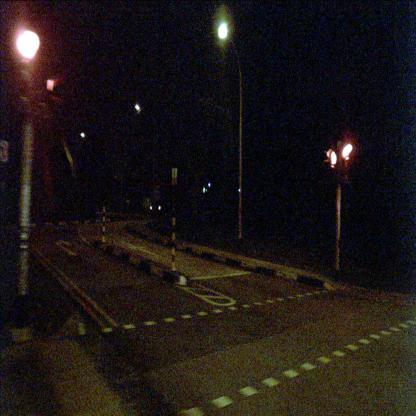vehicle-car: (148, 196, 176, 214)
